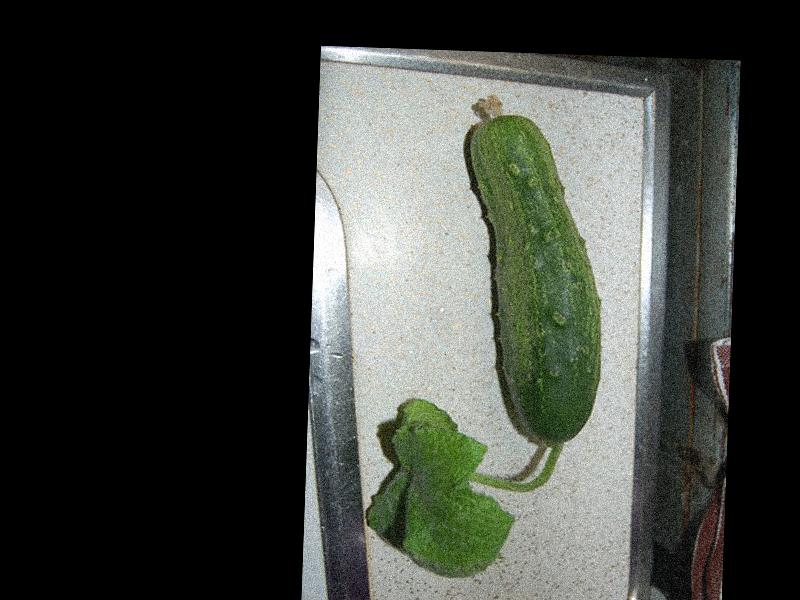Cucumber: (457, 94, 611, 450)
